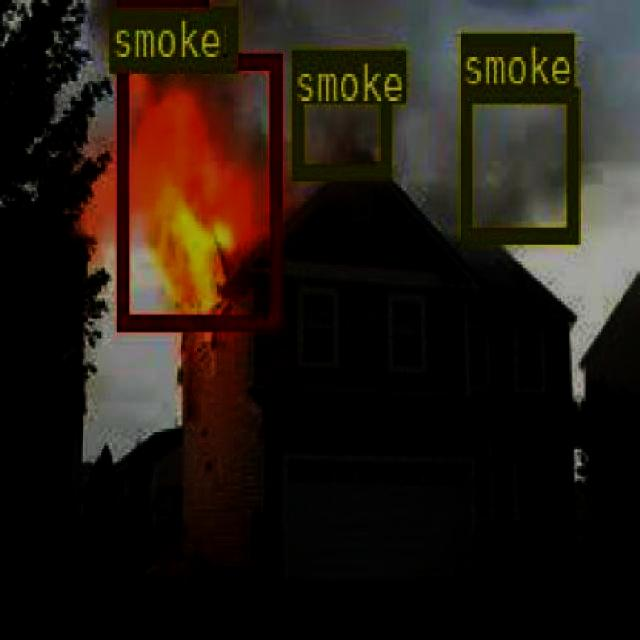fire: (114, 50, 280, 328)
smoke: (460, 84, 576, 241), (290, 49, 388, 174), (108, 6, 234, 68)
